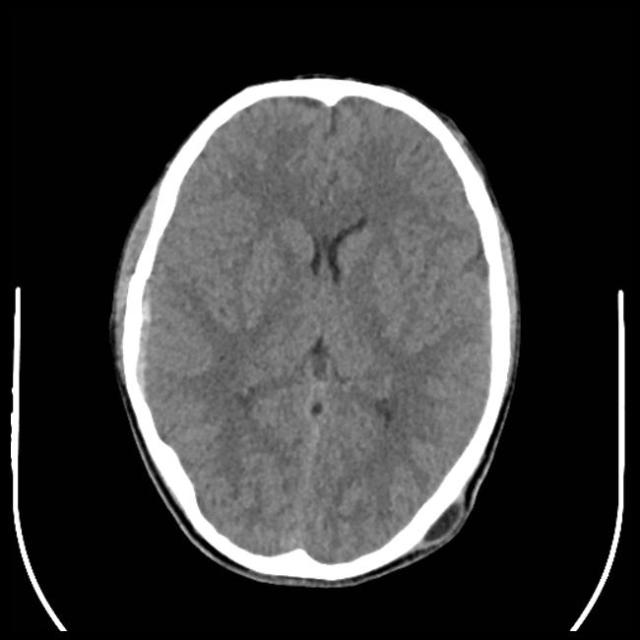lesion: (108, 73, 523, 585)
